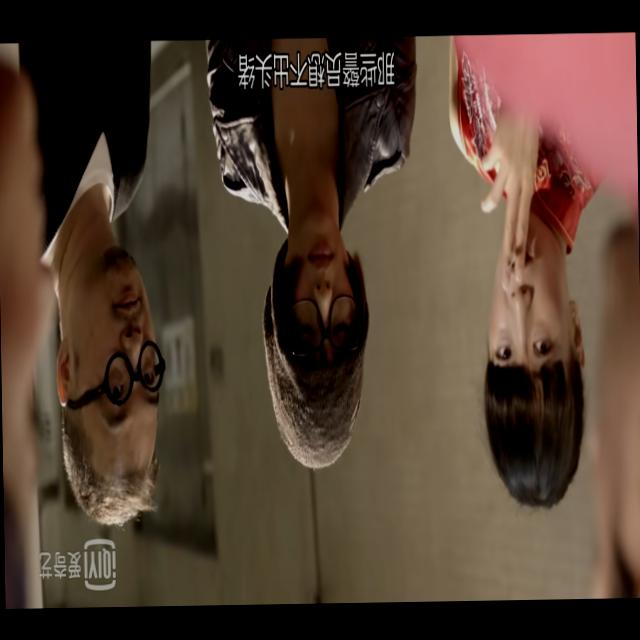smoke: (502, 245, 521, 269)
